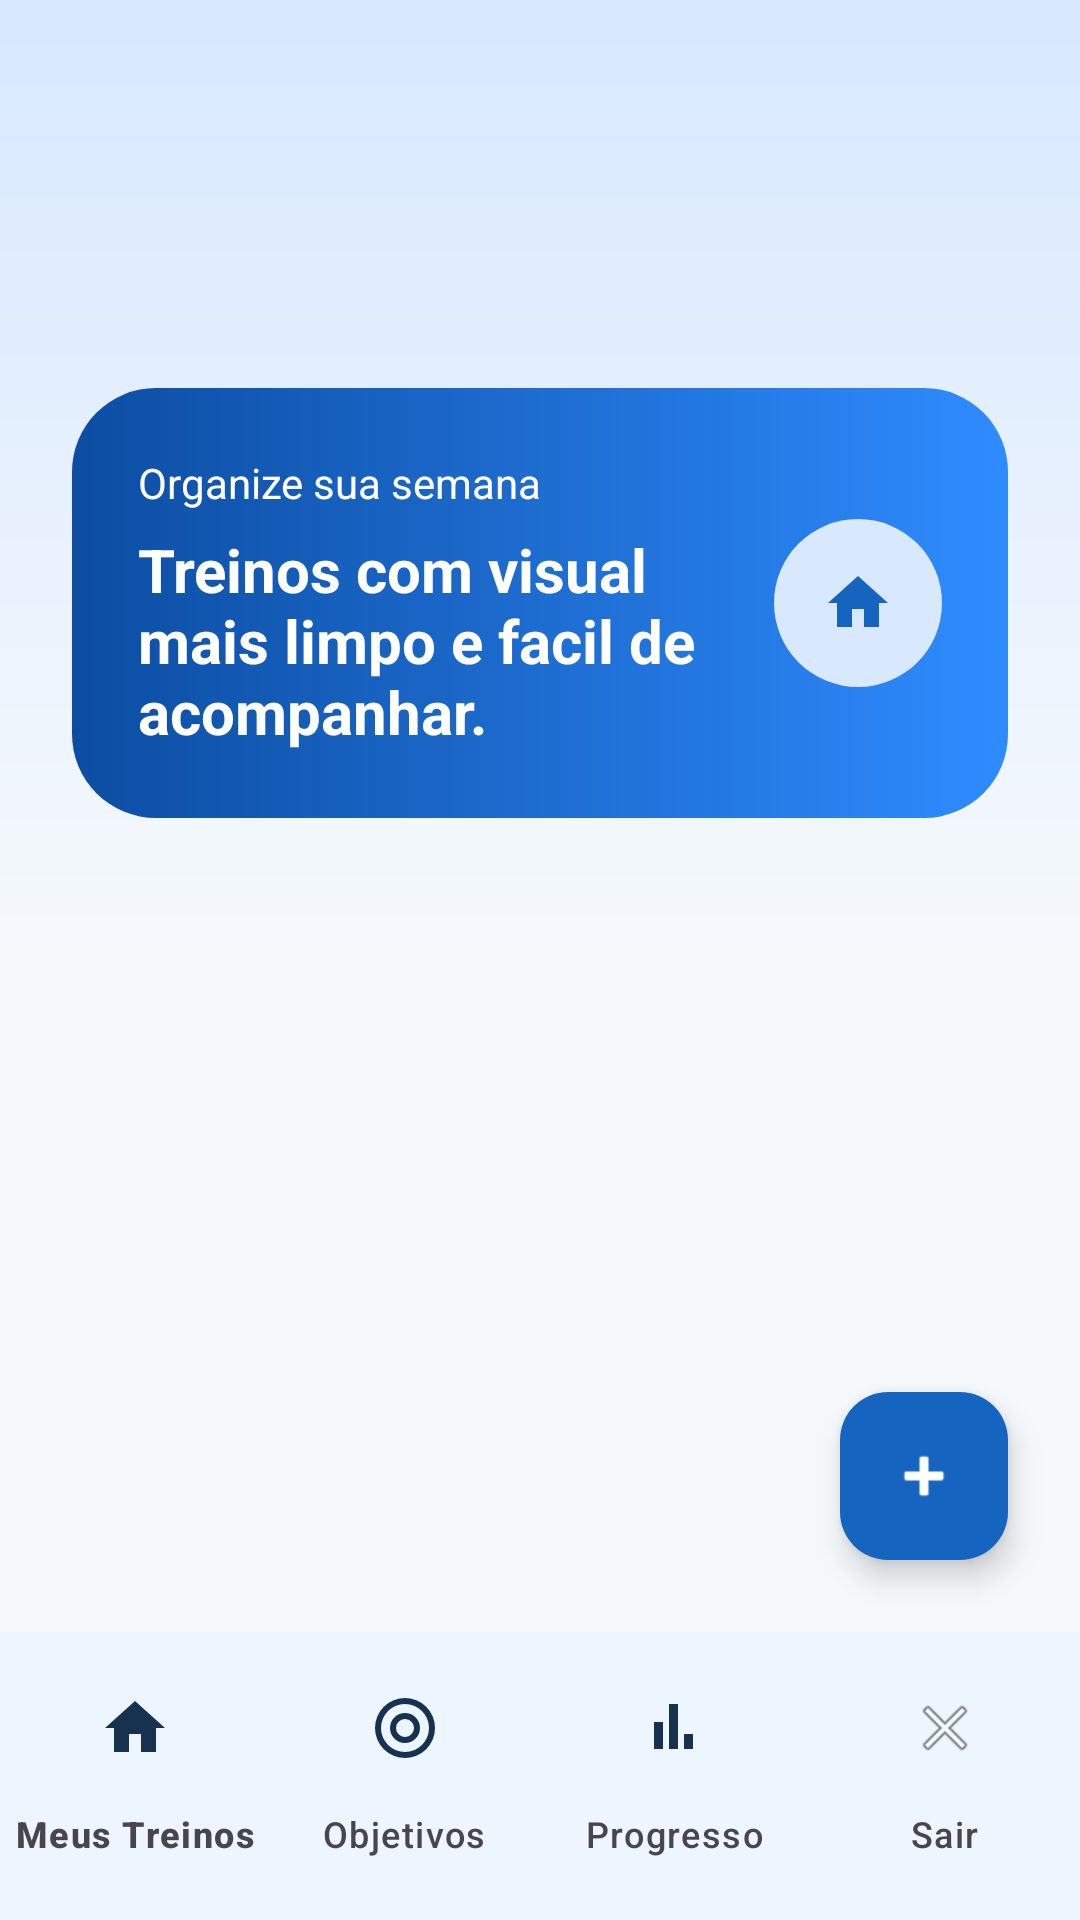

Icon click points for this 1080x1920 phone screenshot, format point (x, y):
Adicionar treino: point (924, 1476)
